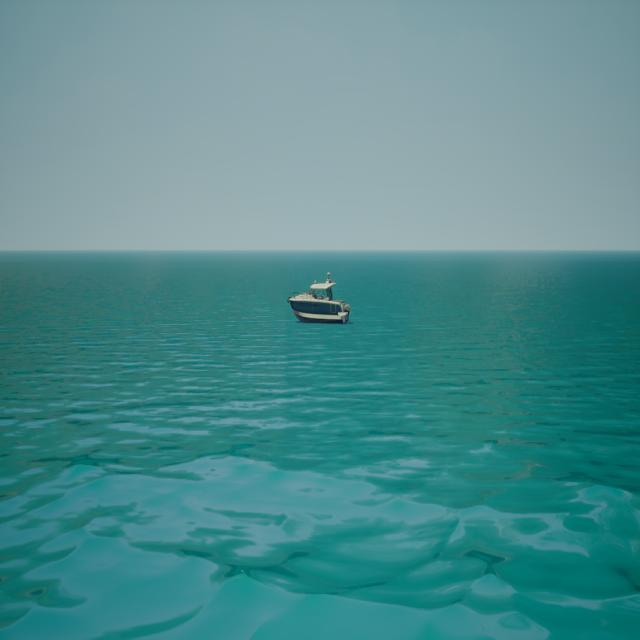ship: (287, 270, 352, 323)
